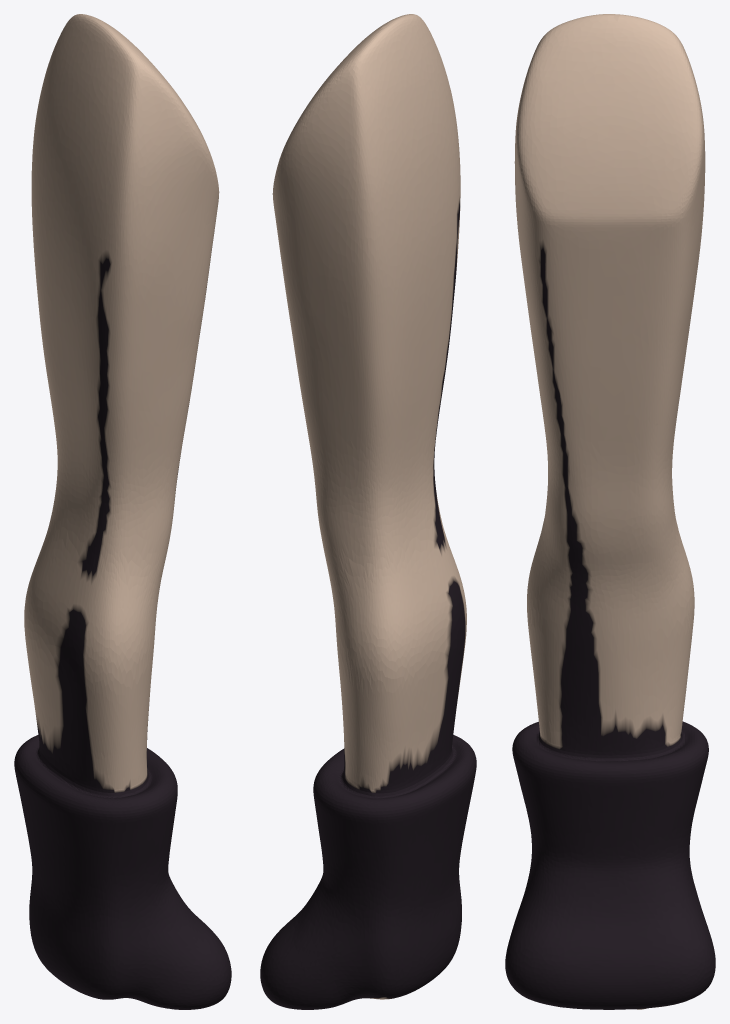
The model's file is leg_L.glb.
3 renders of one model, left to right at view 1: azimuth 30°, elevation 25°; view 2: azimuth 150°, elevation 25°; view 3: azimuth 270°, elevation 25°, orthographic.
Parts seen in each view (by area): view 1: geometry_0; view 2: geometry_0; view 3: geometry_0.
Boxes of the visible parts, x1,y1,x2,y2 form: geometry_0: (14,14,231,1009); geometry_0: (260,14,476,1009); geometry_0: (505,14,715,1009).
Bounding box in the file's own units: 0.224 × 1.24 × 0.2487.
